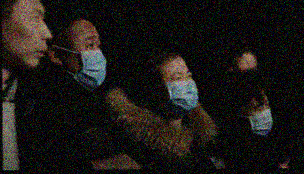with_mask: (61, 34, 107, 90), (162, 68, 199, 110), (244, 102, 273, 135)
without_mask: (6, 8, 53, 68)
